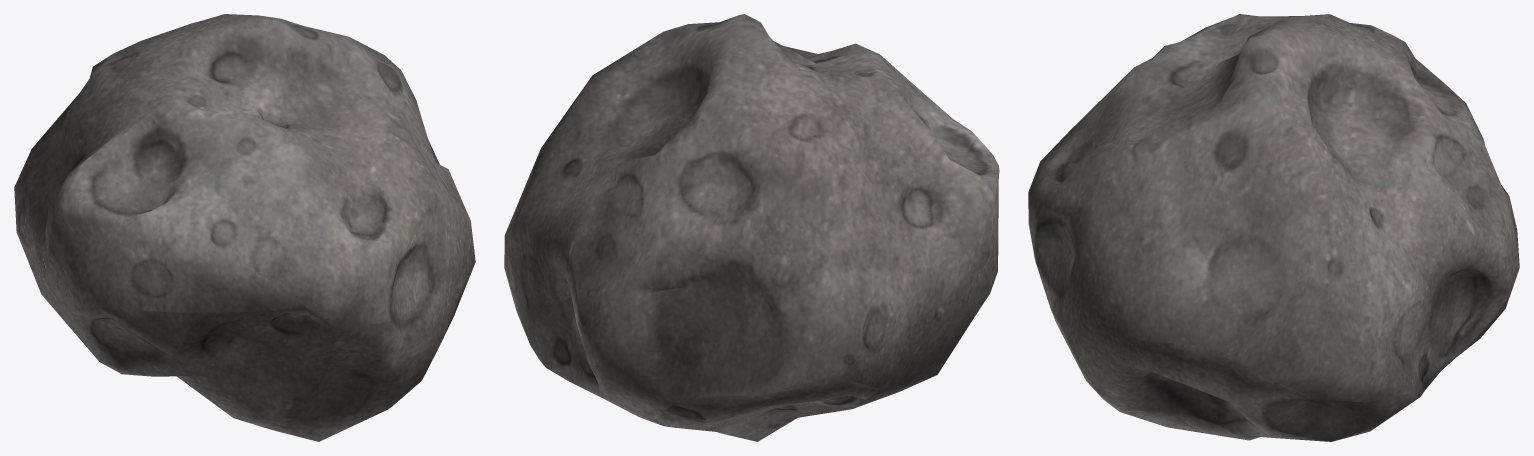
Rendered from Asteroid_02.FBX.
3 views of the same model, side by side, from view 1: azimuth 30°, elevation 25°; view 2: azimuth 150°, elevation 25°; view 3: azimuth 270°, elevation 25° (orthographic). The views are drawn at different scales.
Parts seen in each view (by area): view 1: Asteroid_02; view 2: Asteroid_02; view 3: Asteroid_02.
Part boxes in pixels (x1,y1,x2,y2): Asteroid_02: [14, 14, 475, 441]; Asteroid_02: [504, 14, 999, 441]; Asteroid_02: [1028, 14, 1519, 441].
Size of what is drawn, in the model's own units: 68.63 by 62.57 by 69.6.
